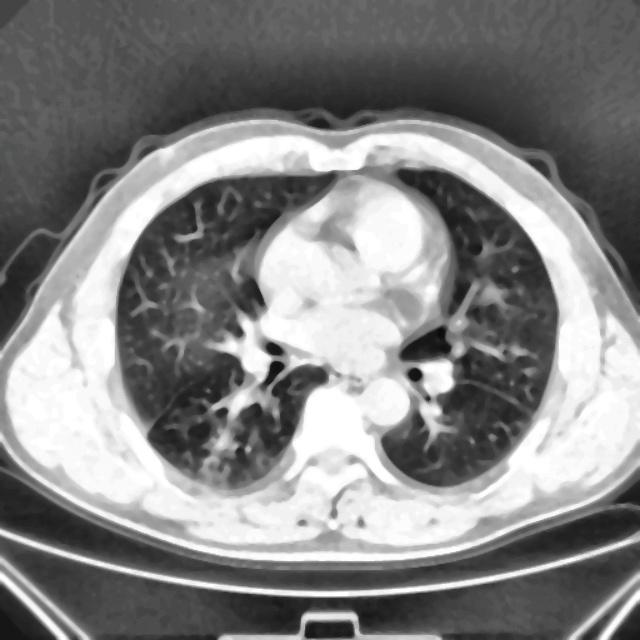covid: (0, 106, 639, 570)
